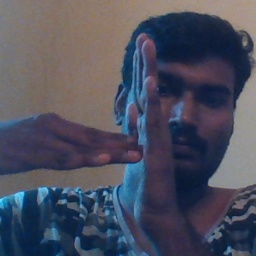Z: (59, 30, 180, 227)
